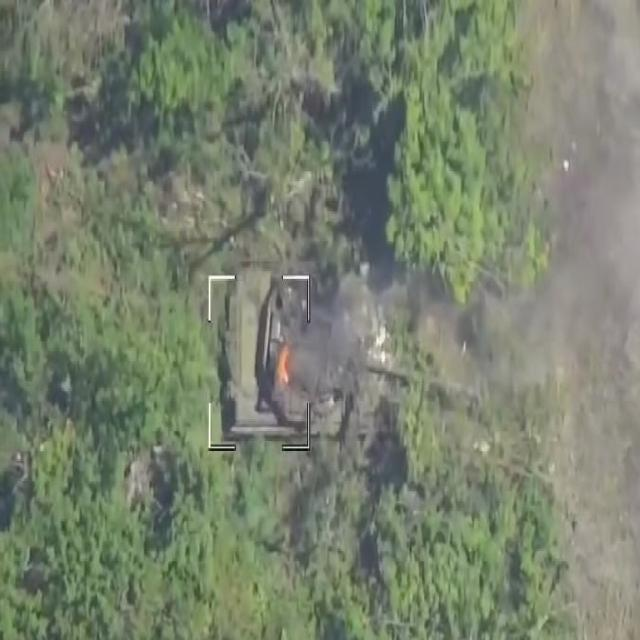TANK: (227, 261, 472, 445)
